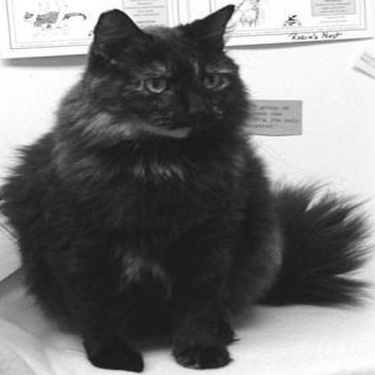cat: (1, 6, 370, 373)
